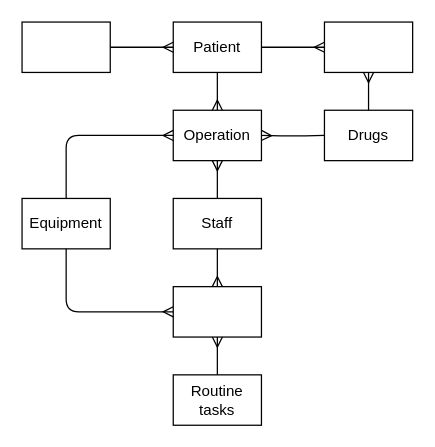
Image size: 435x447. Some labels were removed from this diagram. The centre of each missing label's shape, as x and y in pixels:
"Job assignments" goes at pixel 216 311.
"Prescription" goes at pixel 368 46.
"Room" goes at pixel 65 46.
